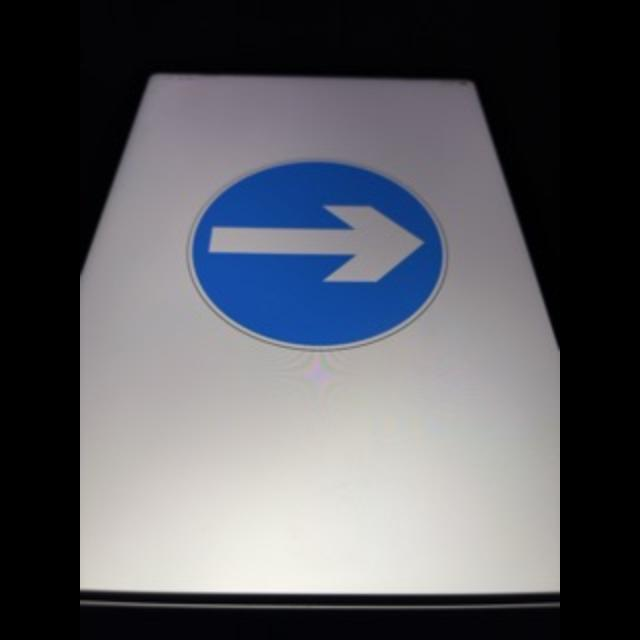TURN RIGHT: (184, 154, 450, 352)
